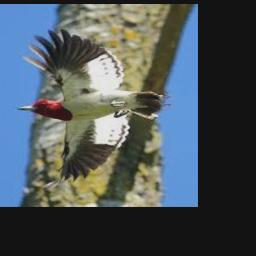Woodpecker: (17, 29, 170, 187)
